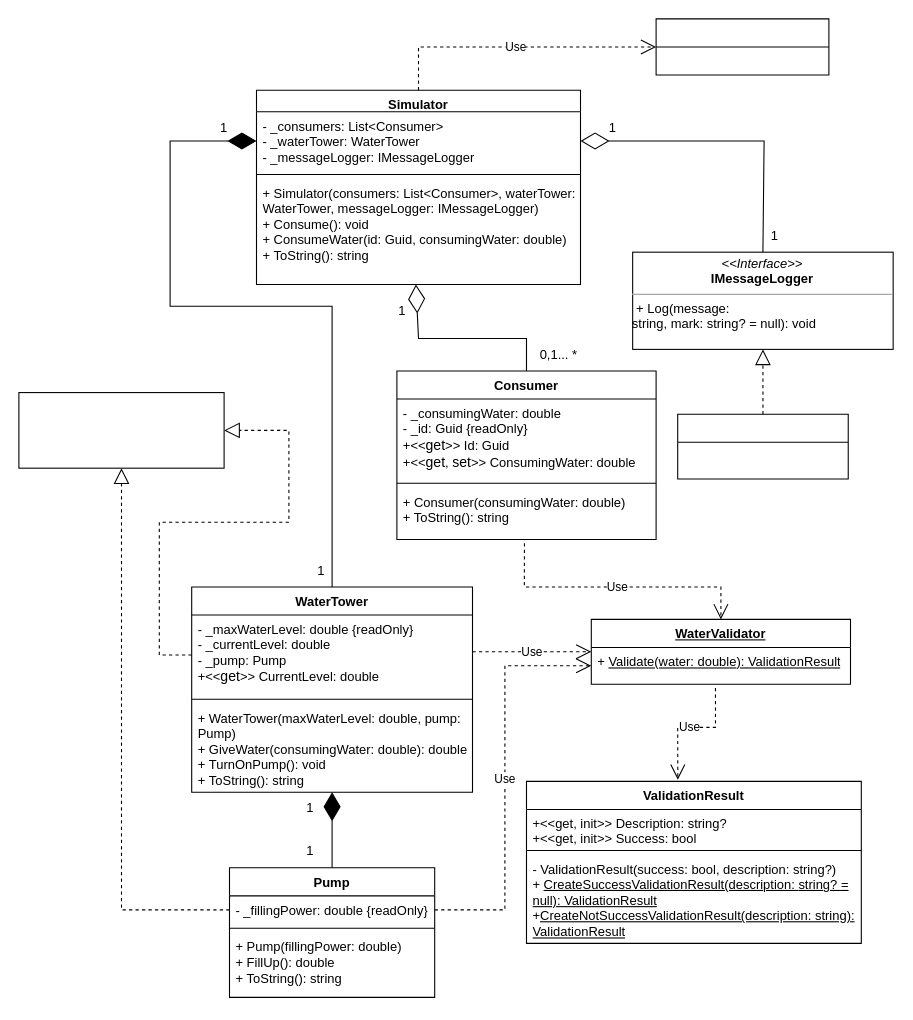
This 913x1020 diagram has some shape labels left out. Here are the shapes that lost their labels. From the top down, the centre of each, then its label:
At pixel 742 46: "Math".
At pixel 121 430: "<<Interface>> ICloneable".
At pixel 762 446: "ConsoleMessageLogger".
